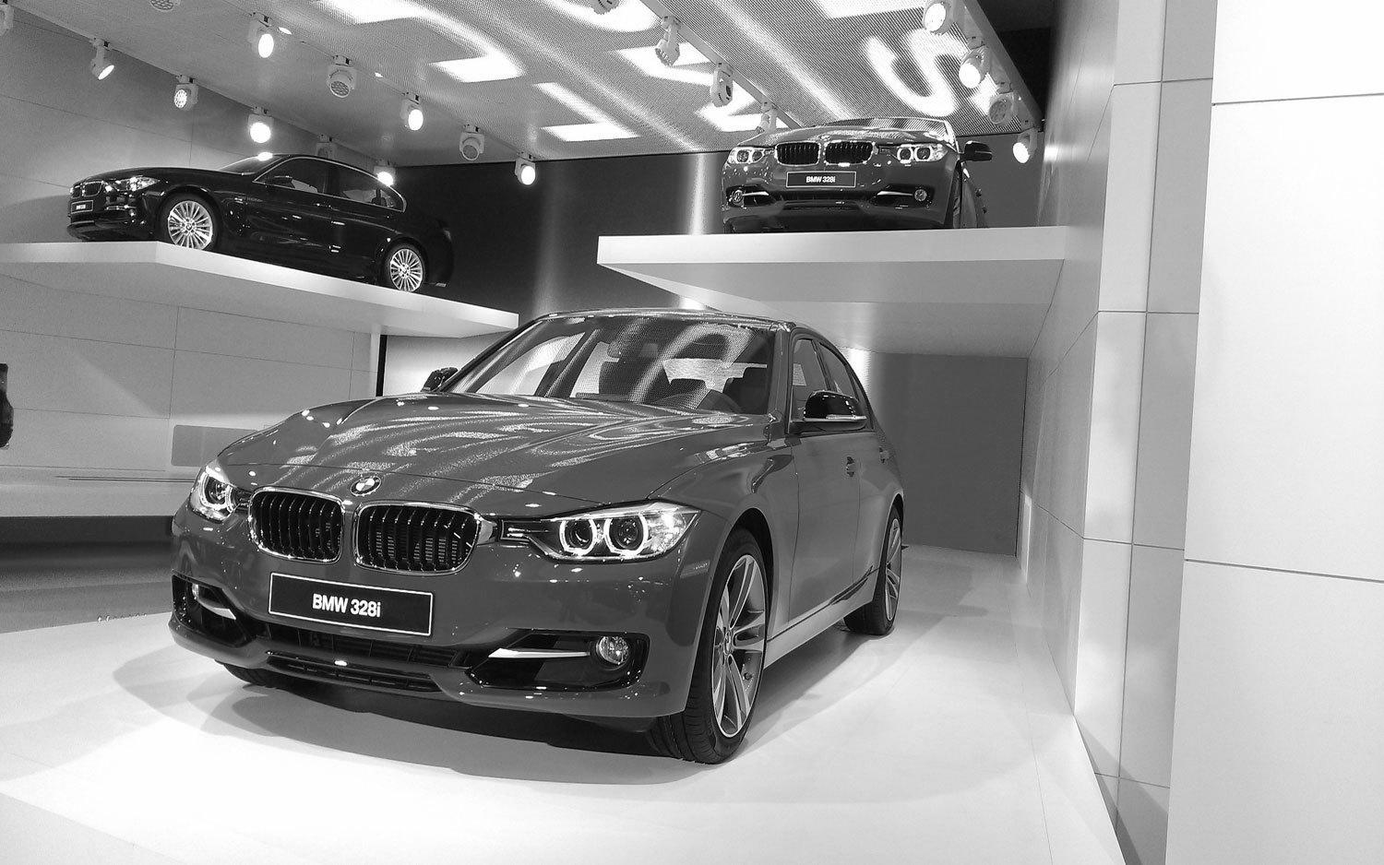car: (172, 310, 908, 766)
